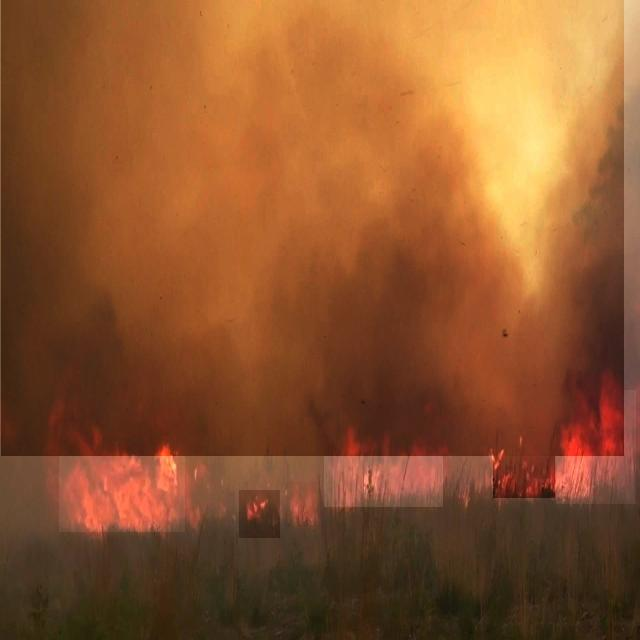Fire: (59, 430, 185, 532), (324, 429, 443, 507), (556, 390, 636, 504), (493, 456, 555, 498), (239, 490, 280, 538), (285, 482, 320, 527)
Smoke: (1, 0, 624, 456)
